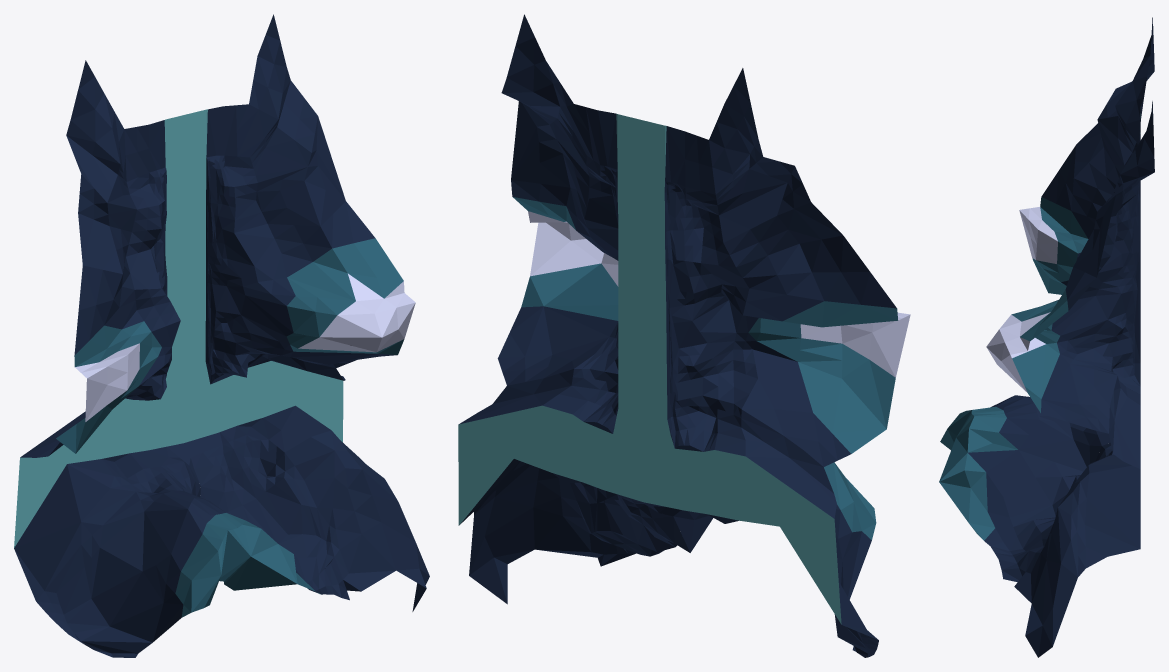
The model's file is MountainTerrainStrait.fbx.
The picture shows the model from 3 angles, left to right: view 1: azimuth 30°, elevation 25°; view 2: azimuth 150°, elevation 25°; view 3: azimuth 270°, elevation 25°; orthographic projection. The views are drawn at different scales.
Parts seen in each view (by area): view 1: Plane; view 2: Plane; view 3: Plane.
Boxes of the visible parts, <box> form: Plane: <box>14,14,429,657</box>; Plane: <box>458,14,910,657</box>; Plane: <box>939,17,1154,657</box>.
Size of the model in its own units: 65.27 by 95.55 by 35.58.
Materials: 1 (1 with a texture image).
